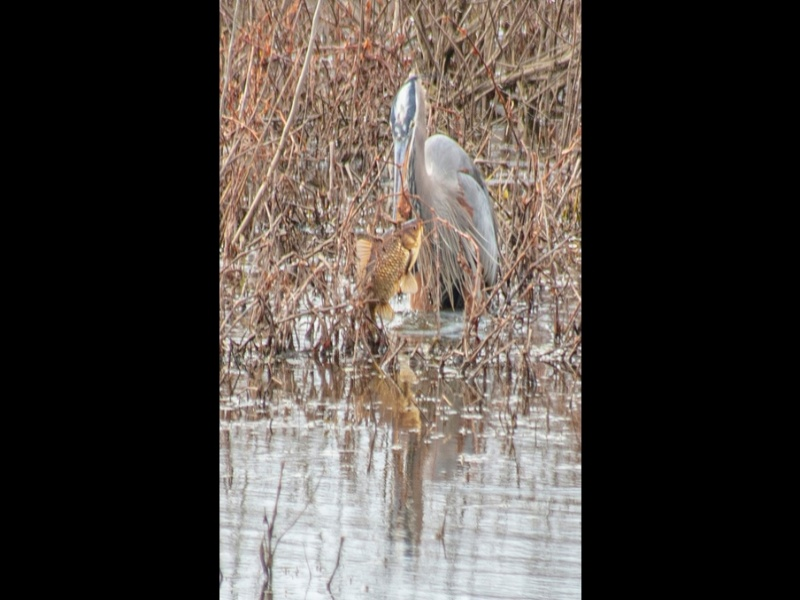heron: (386, 72, 502, 356)
